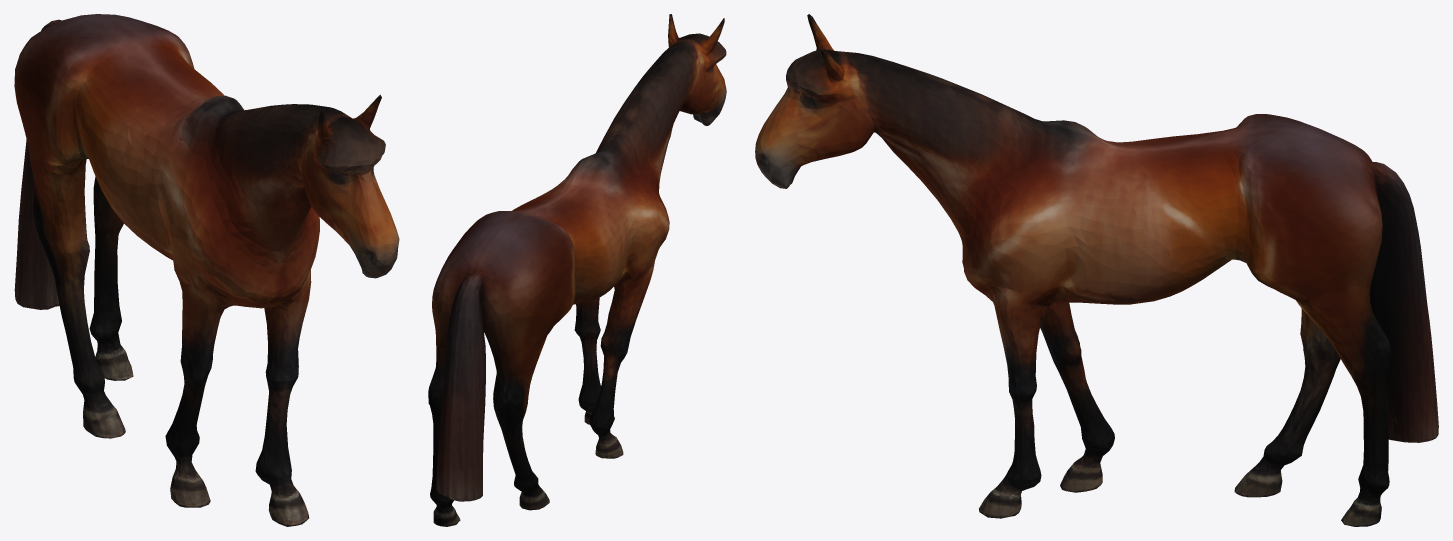
Rendered from horse.glb.
The picture shows the model from 3 angles, left to right: view 1: azimuth 30°, elevation 25°; view 2: azimuth 150°, elevation 25°; view 3: azimuth 270°, elevation 25°; orthographic projection. The views are drawn at different scales.
Parts seen in each view (by area): view 1: geometry_0; view 2: geometry_0; view 3: geometry_0.
Boxes of the visible parts, x1,y1,x2,y2 form: geometry_0: [14, 14, 399, 526]; geometry_0: [428, 14, 726, 526]; geometry_0: [755, 14, 1438, 526].
Bounding box in the file's own units: 0.2434 × 0.7516 × 0.998.
Materials: 1 (1 with a texture image).
